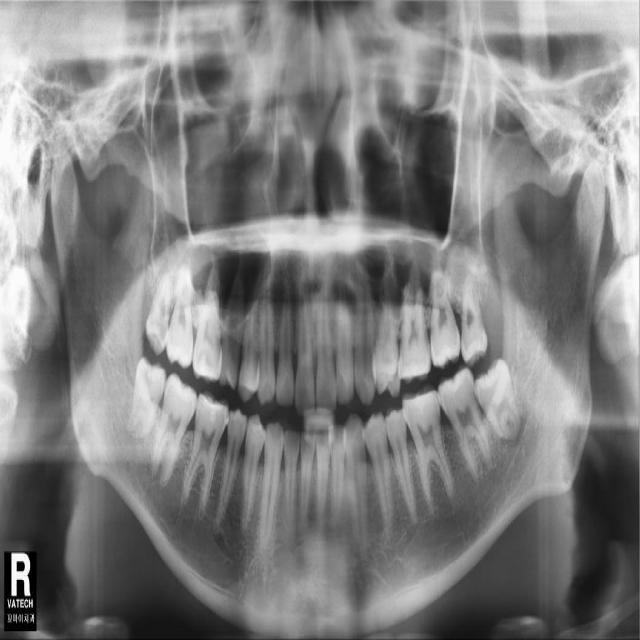Filling: (196, 350, 217, 379)
Periapical lesion: (499, 415, 524, 444), (147, 463, 162, 480), (484, 455, 498, 472)
impacted tooth: (474, 360, 517, 437), (127, 359, 167, 439)
